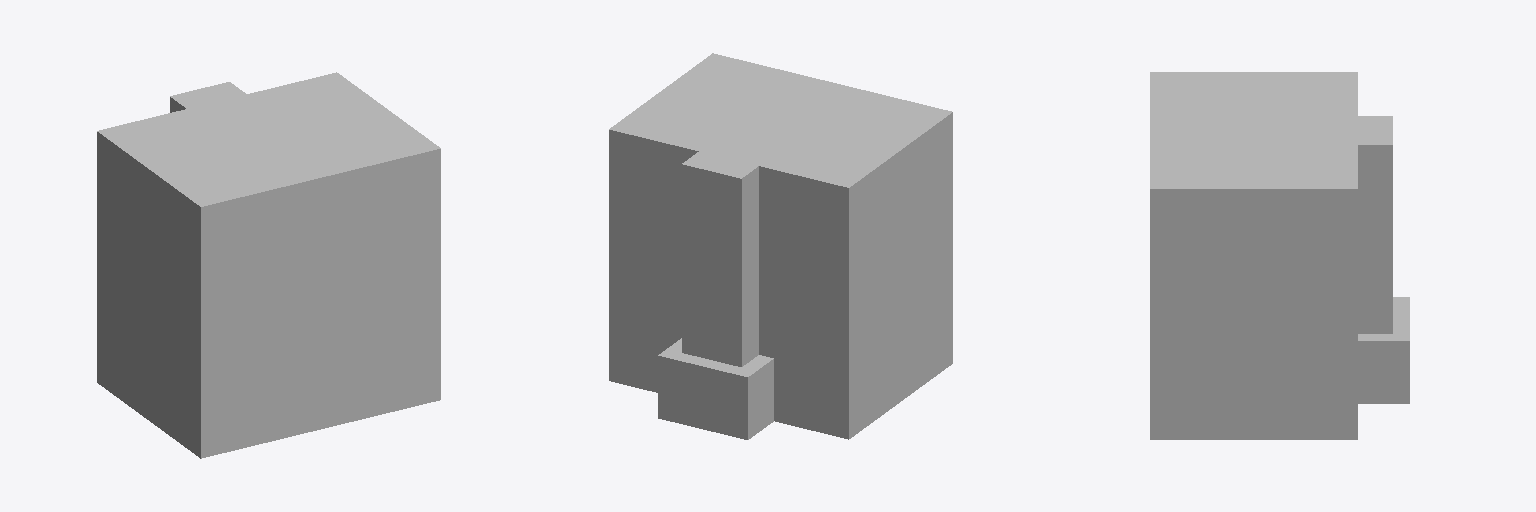
Rendered from grinder_block.obj.
3 views of the same model, side by side, from view 1: azimuth 30°, elevation 25°; view 2: azimuth 150°, elevation 25°; view 3: azimuth 270°, elevation 25° (orthographic).
Parts seen in each view (by area): view 1: Shape1; view 2: Shape1; view 3: Shape1.
Part boxes in pixels (x1,y1,x2,y2): Shape1: (97,72,440,458); Shape1: (609,53,952,439); Shape1: (1150,72,1409,439).
Bounding box in the file's own units: 1 × 1 × 0.9375.